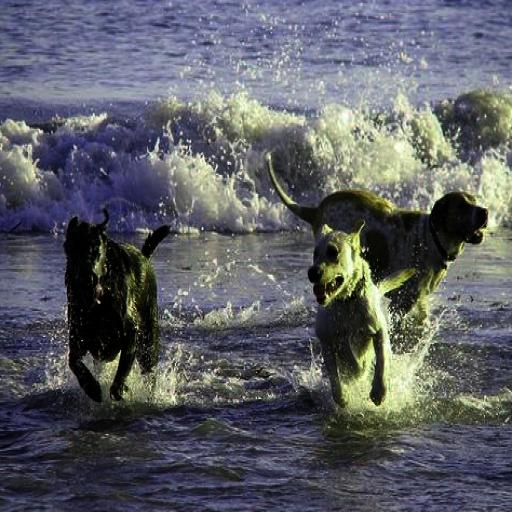dog_face: (307, 221, 366, 308), (58, 210, 115, 296)
